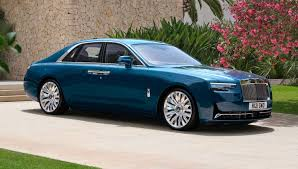car: (21, 36, 274, 133)
